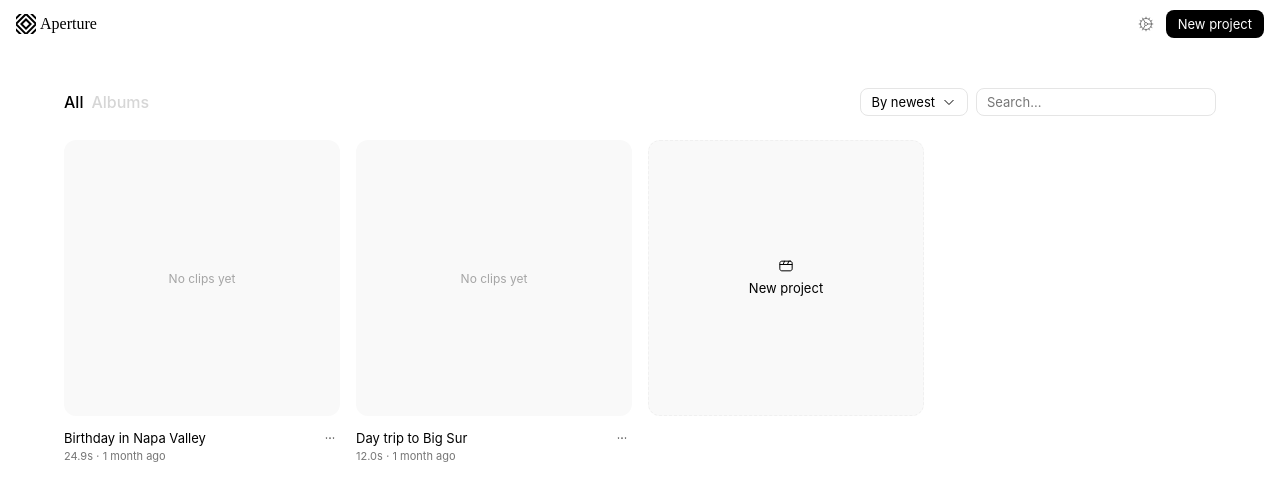
Test: Home albums › filters tiles by search query
Expected: the text "Day trip to Big Sur" is shown, [356,430,467,446]
Type "napa" into the field with placeholder "Search..." at point(1096, 102), box [976,88,1216,116]
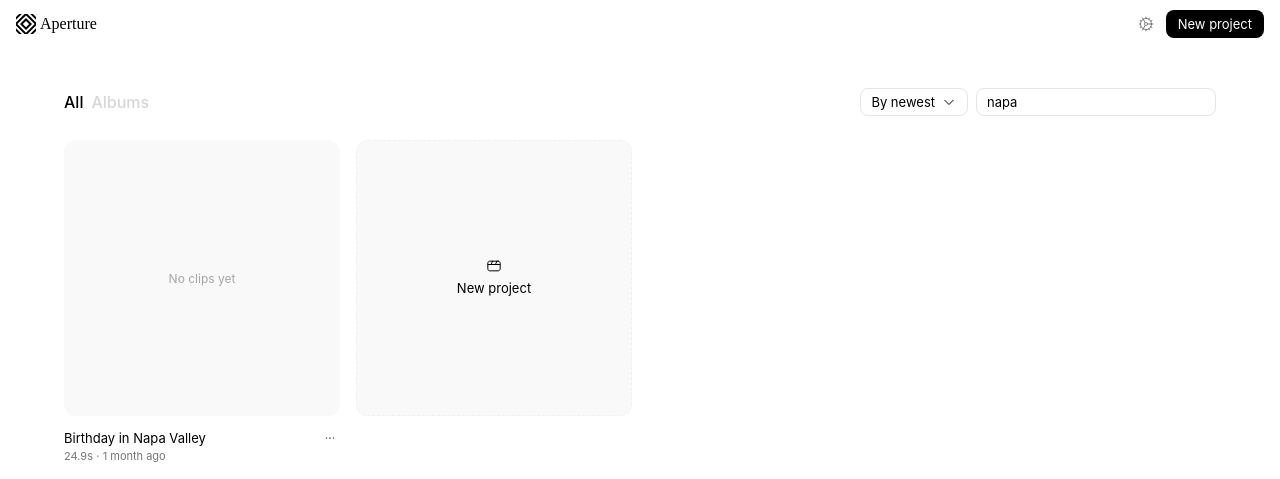
Expected: the text "Birthday in Napa Valley" is shown, [64,430,206,446]
Now the button "Day trip to Big Sur" is gone
